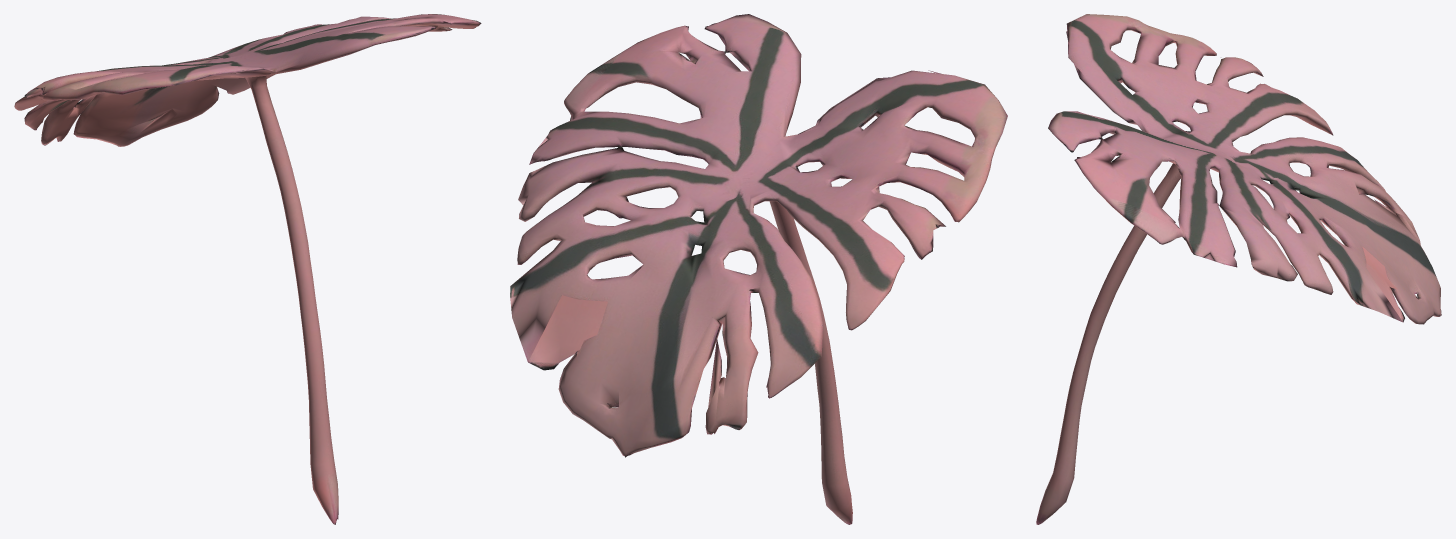
File: mon_variegata_pink.glb
3 views of the same model, side by side, from view 1: azimuth 30°, elevation 25°; view 2: azimuth 150°, elevation 25°; view 3: azimuth 270°, elevation 25° (orthographic). The views are drawn at different scales.
Bounding box in the file's own units: 1.83 × 2 × 1.67.
1 material, 1 textured.
